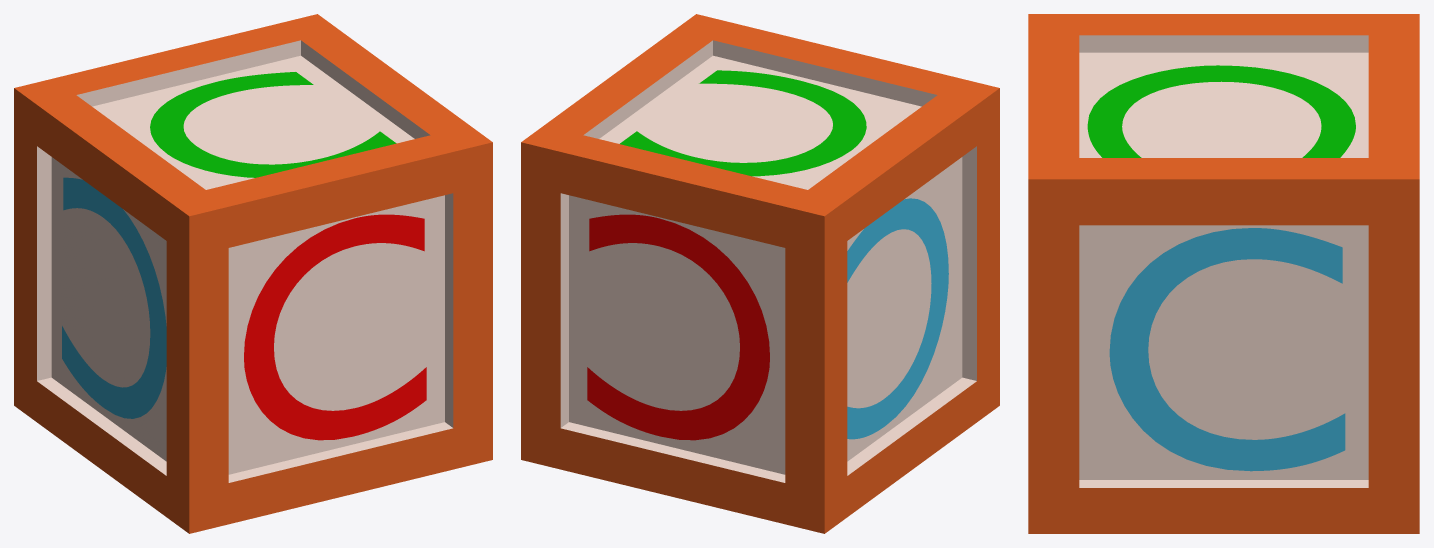
Rendered from Prop_KidsCube_C.fbx.
3 renders of one model, left to right at view 1: azimuth 30°, elevation 25°; view 2: azimuth 150°, elevation 25°; view 3: azimuth 270°, elevation 25°, orthographic. The views are drawn at different scales.
Visible parts, largest first — view 1: Prop_KidsCube_C; view 2: Prop_KidsCube_C; view 3: Prop_KidsCube_C.
Part boxes in pixels (bbox=[...]): Prop_KidsCube_C: bbox=[14, 14, 492, 533]; Prop_KidsCube_C: bbox=[521, 14, 999, 533]; Prop_KidsCube_C: bbox=[1028, 14, 1419, 533].
Bounding box in the file's own units: 20.93 × 20.93 × 20.93.
1 material, 1 textured.
